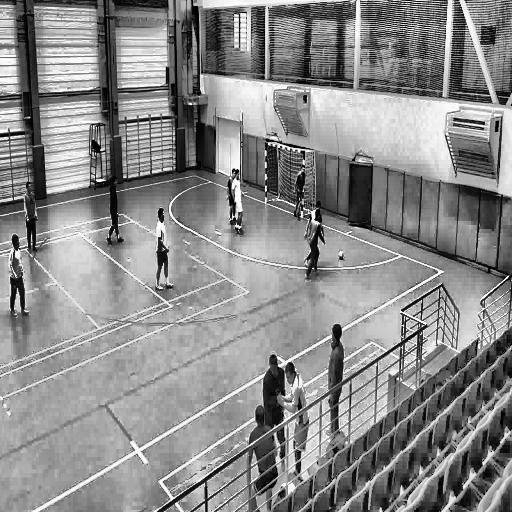ball: (337, 248, 345, 262)
player: (277, 360, 311, 475), (245, 406, 277, 512), (261, 353, 288, 466), (324, 319, 346, 430), (8, 232, 30, 322), (155, 205, 174, 295), (304, 196, 326, 269), (106, 174, 124, 248), (308, 209, 326, 283), (23, 179, 39, 256), (232, 168, 245, 238), (292, 163, 306, 223), (227, 166, 237, 227)
